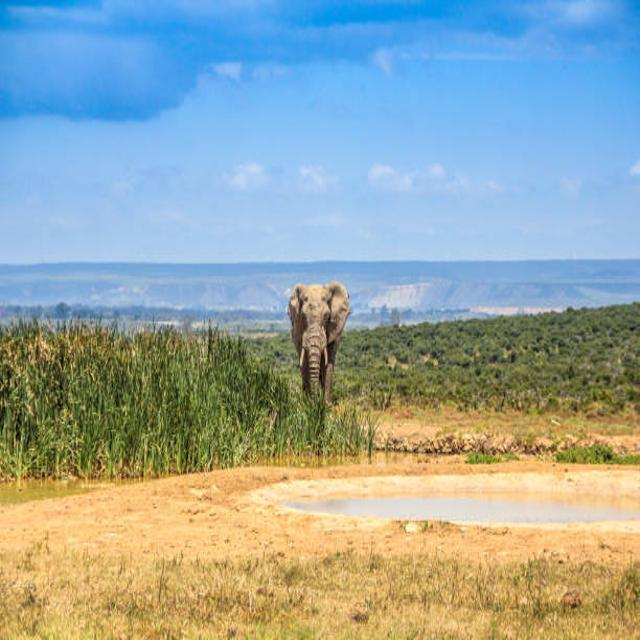Elephant: (276, 272, 362, 392)
